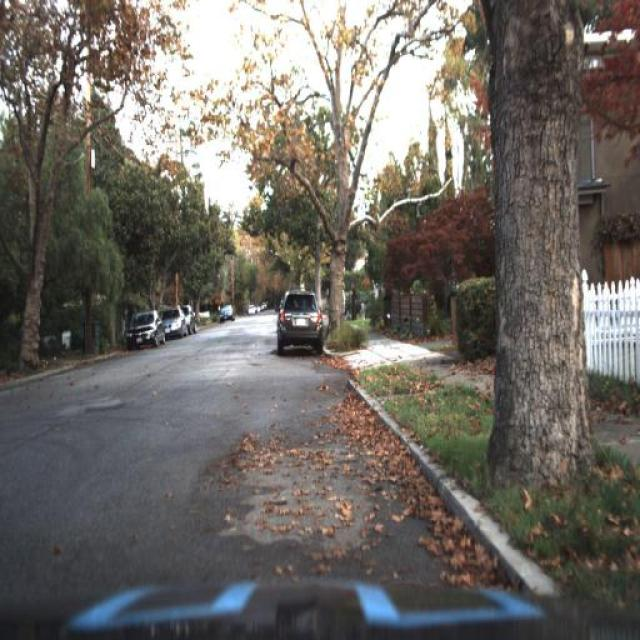car: (274, 288, 325, 358), (124, 304, 164, 352), (160, 306, 184, 346), (218, 301, 236, 323), (183, 305, 194, 337)
